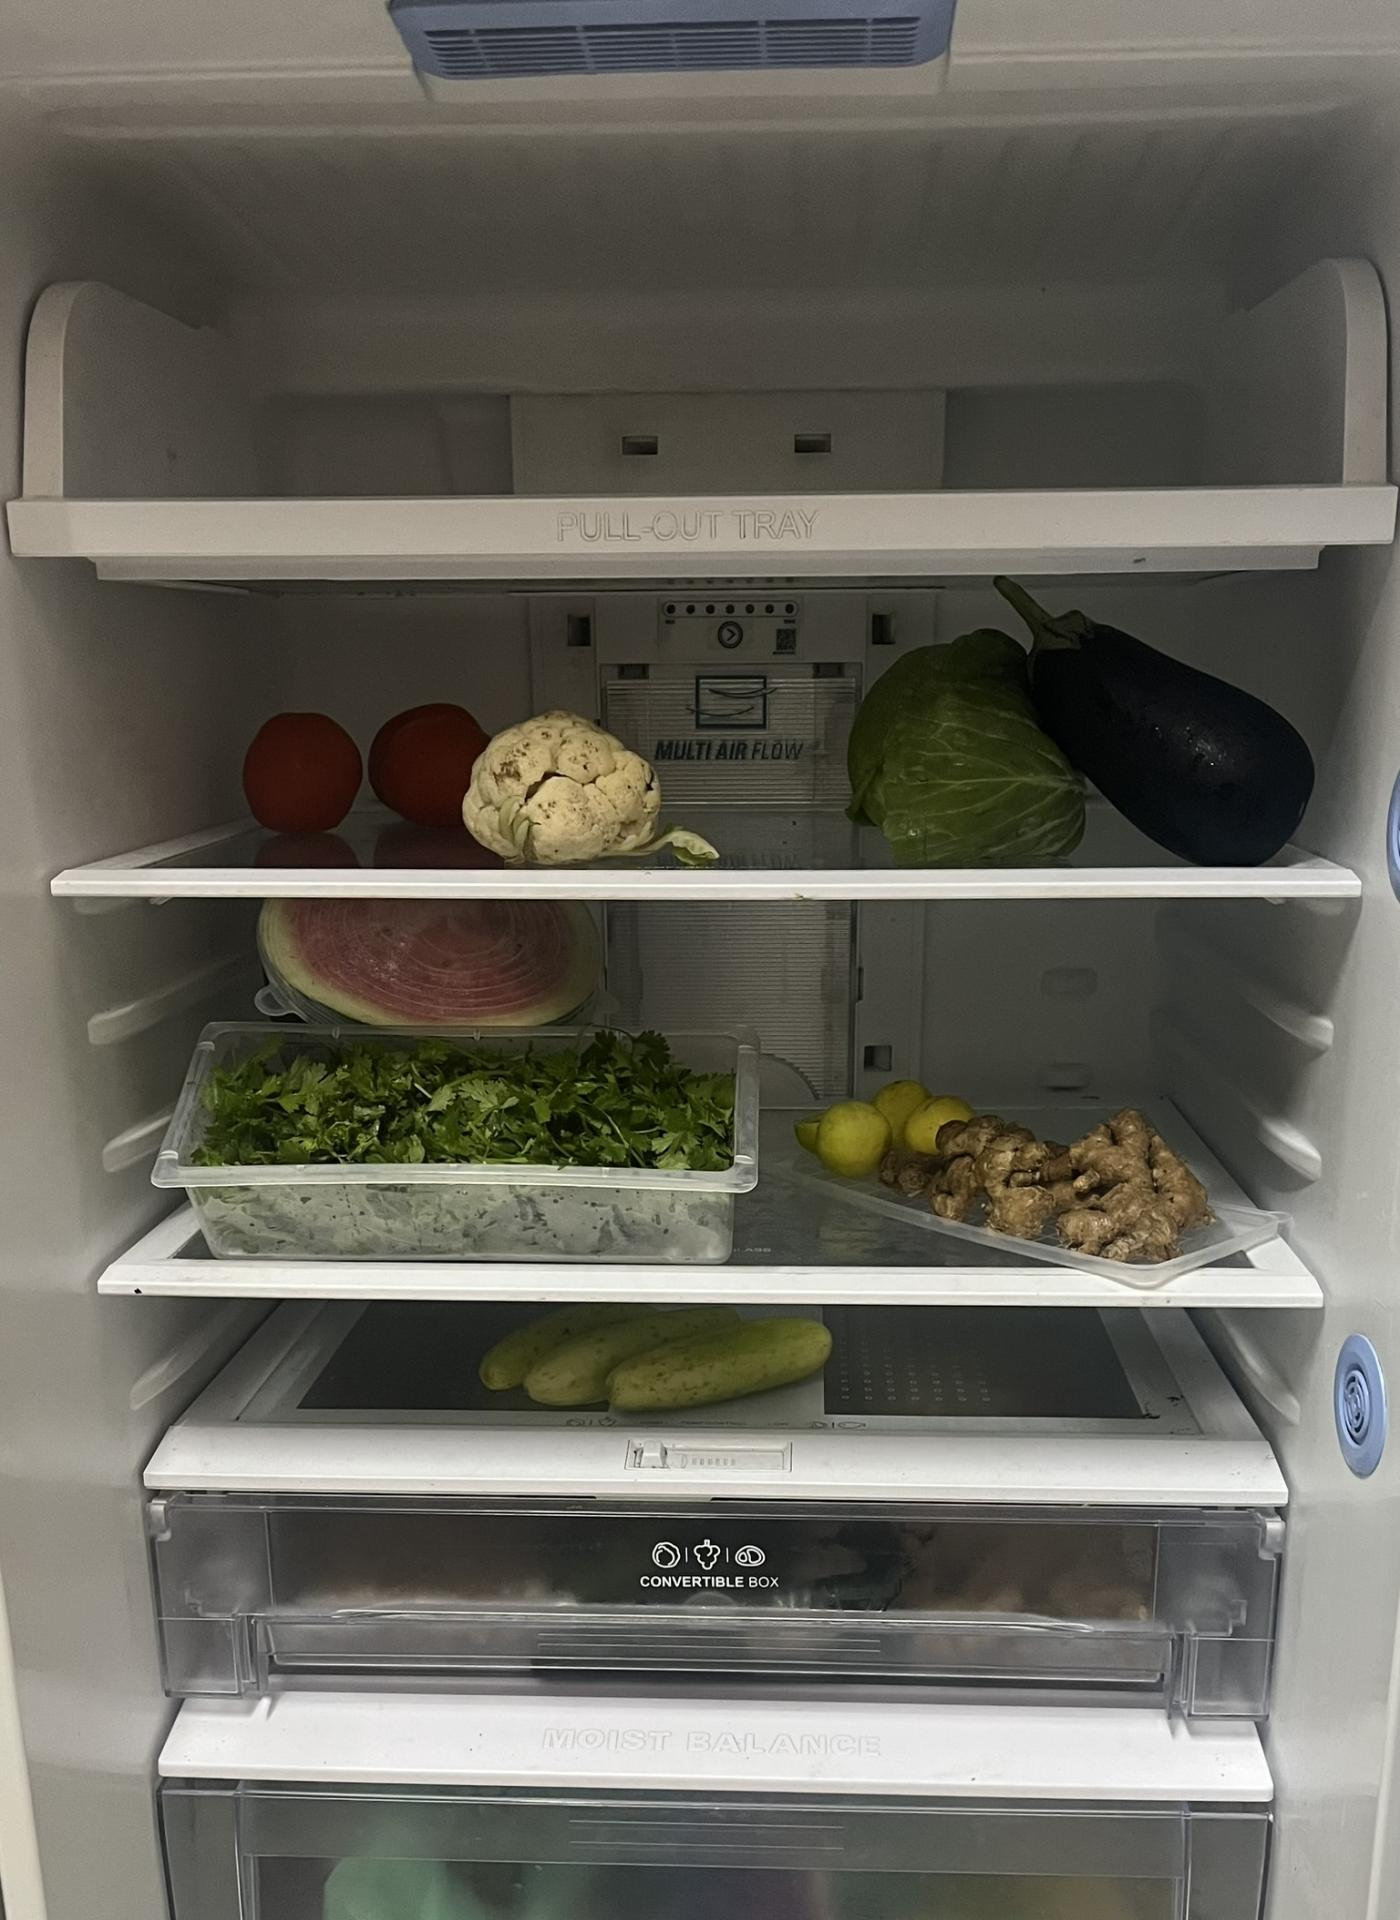cabbage: (848, 632, 1099, 853)
cauliflower: (449, 704, 665, 863)
coriander: (186, 1024, 729, 1233)
cucumber: (474, 1303, 836, 1398)
ginger: (893, 1102, 1212, 1258)
lemon: (810, 1081, 974, 1158)
tomato: (250, 696, 440, 851)
watermelon: (259, 890, 607, 1027)
